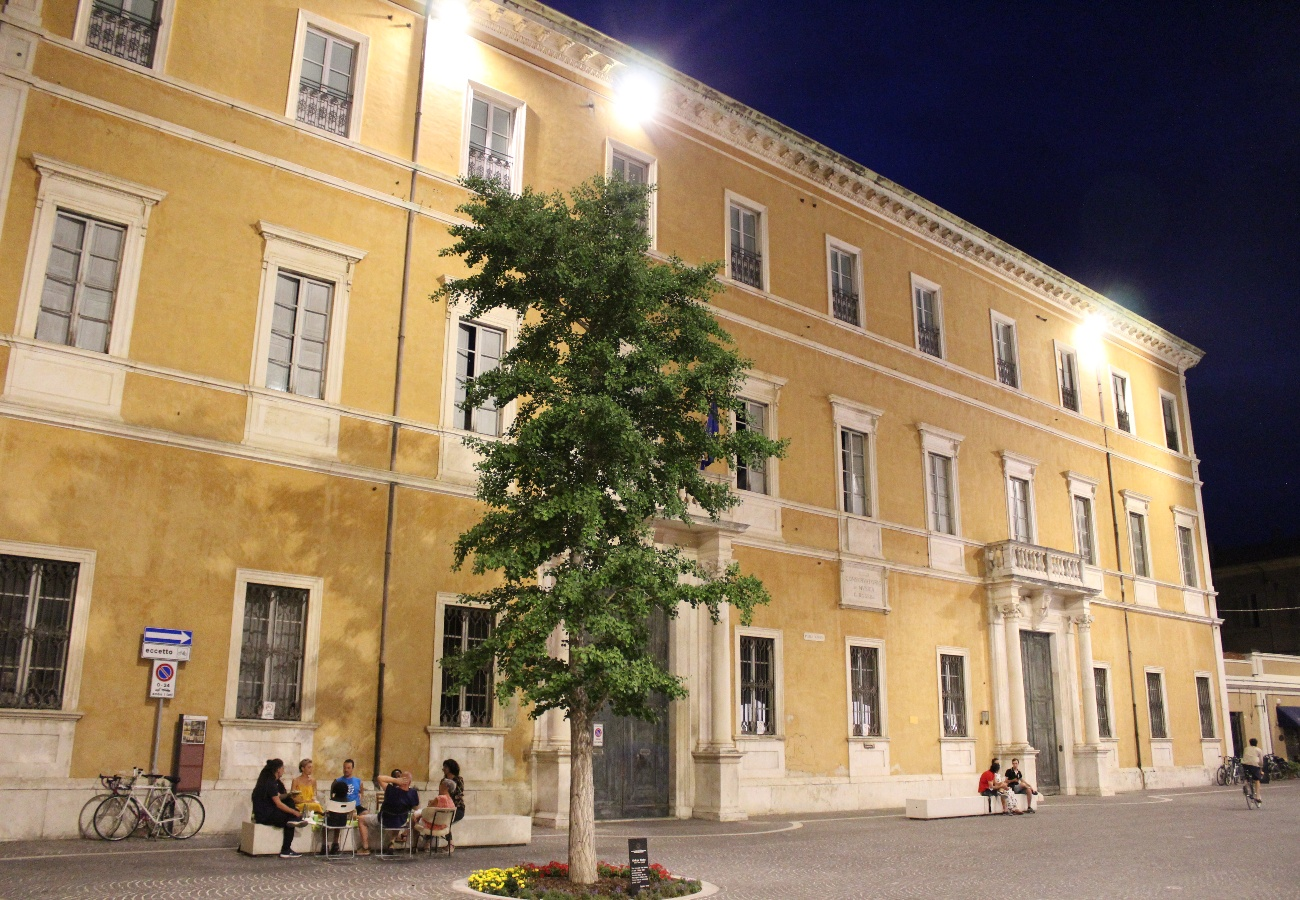Palazzo Olivieri: (1, 1, 1235, 826)
